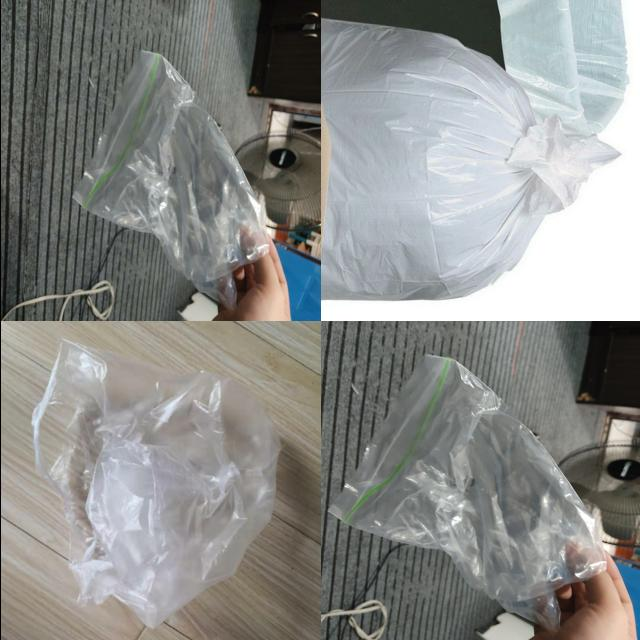plastik: (321, 19, 618, 300), (328, 355, 606, 630), (32, 341, 280, 627), (73, 51, 267, 307), (497, 0, 627, 136)
